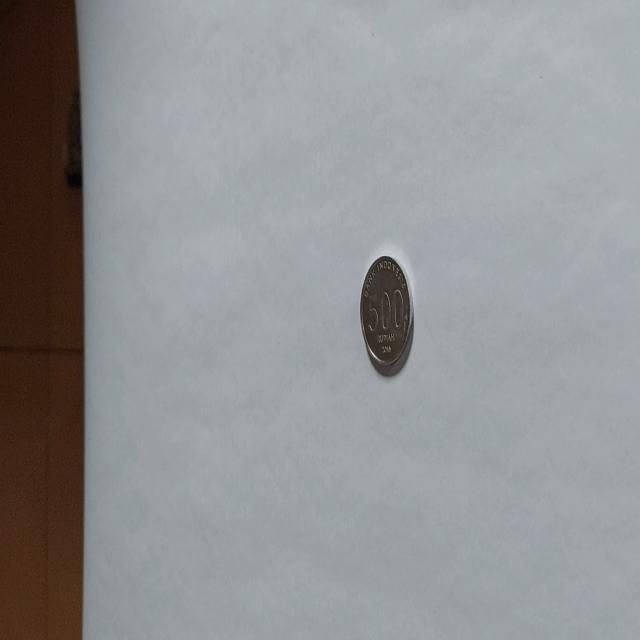lima ratus rupiah: (358, 253, 414, 376)
